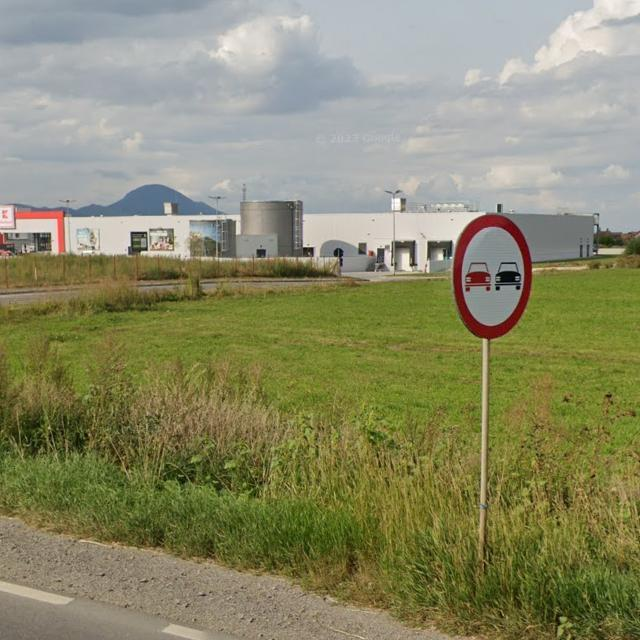forb_overtake: (455, 215, 534, 340)
